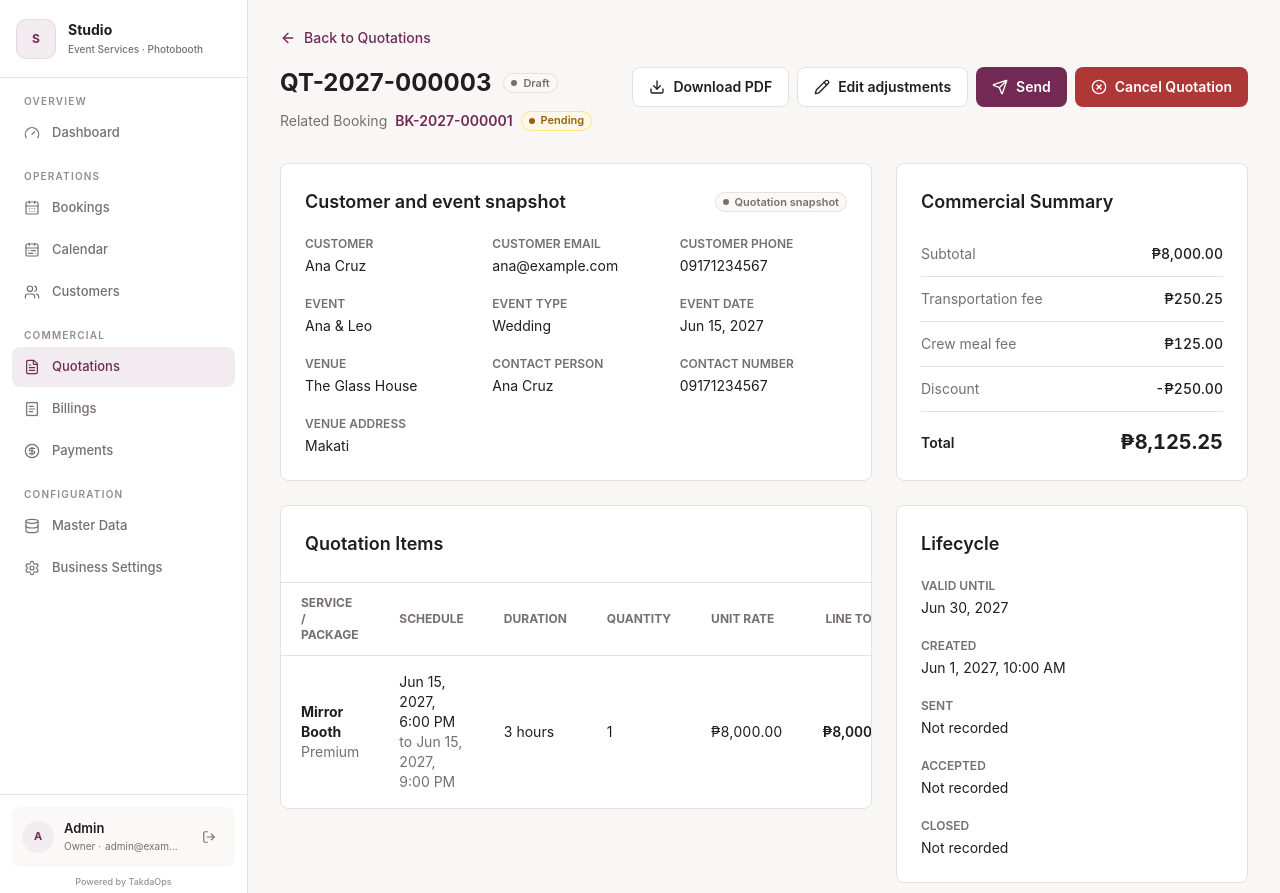
it: send lifecycle action uses confirmation and explicit endpoint
The width and height of the screenshot is (1280, 893).
Click the button "Send" at (1021, 87), box [976,67,1067,107]
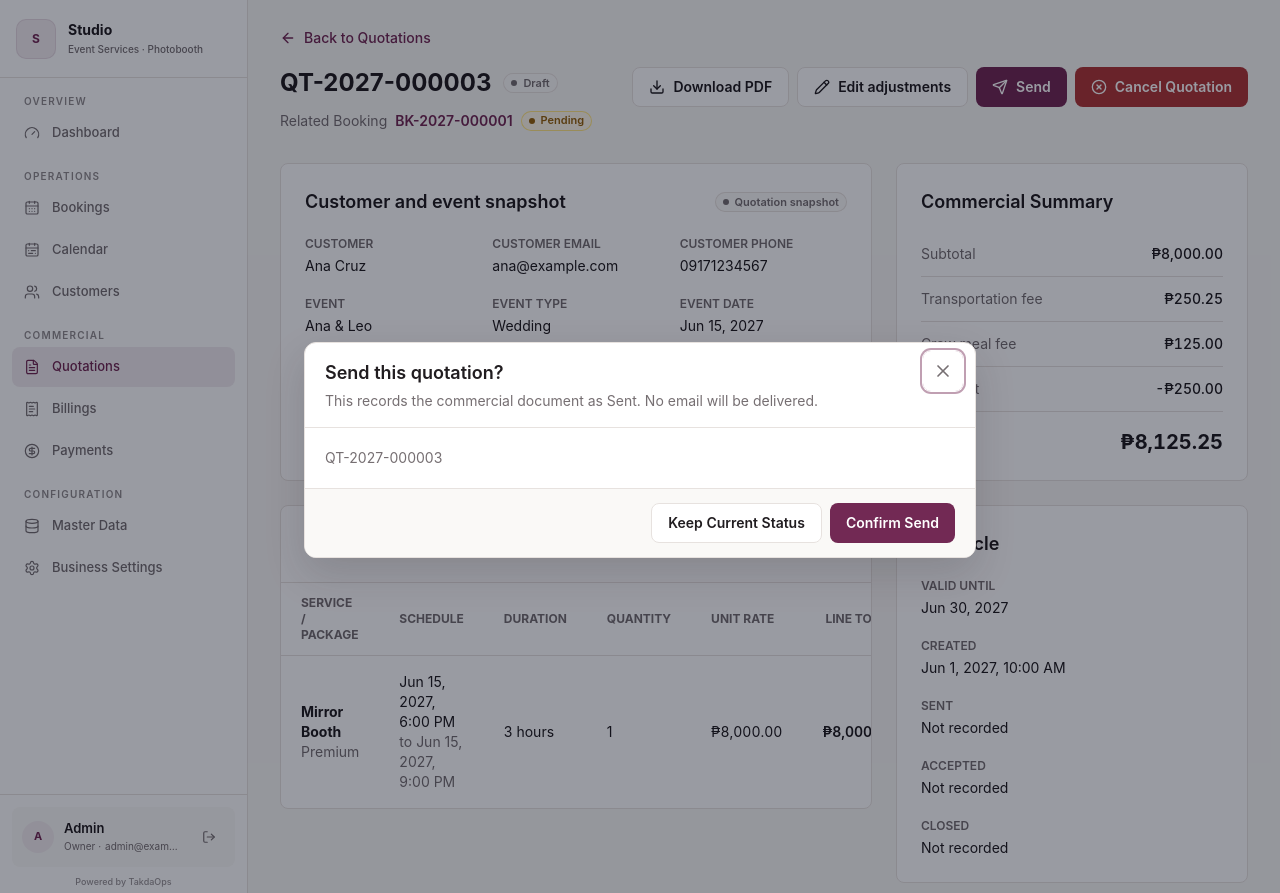
Click the button "Confirm Send" at (892, 523), box [830,503,955,543]
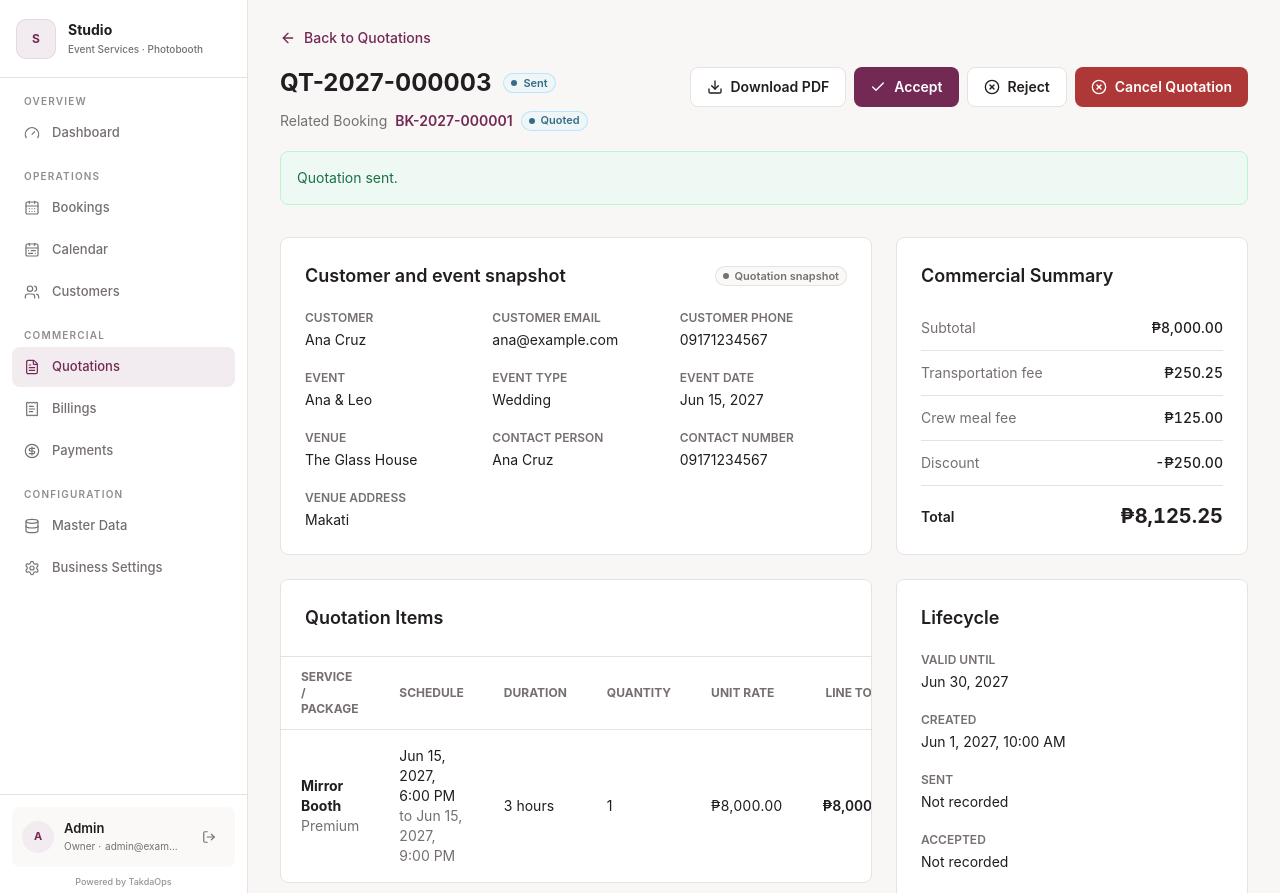
Expected: the text "Sent" next to "QT-2027-000003" is shown, [523,76,548,90]
